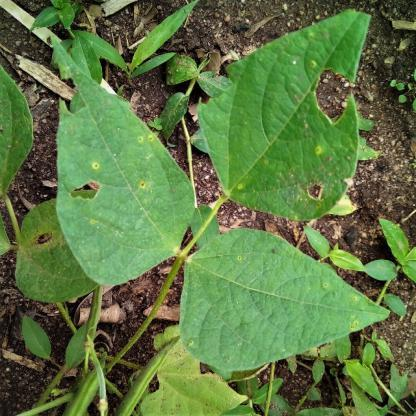Beans_Rust: (46, 35, 196, 272), (198, 11, 371, 212), (183, 226, 385, 368)
